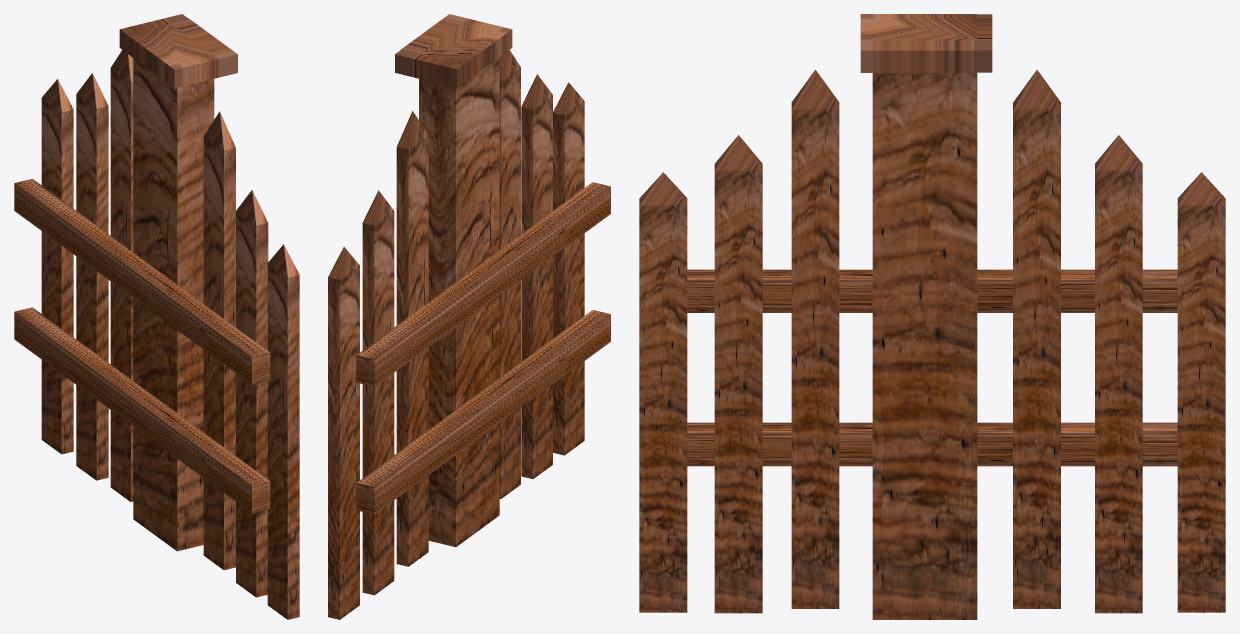
The model's file is blocco_staccionata.fbx.
3 renders of one model, left to right at view 1: azimuth 30°, elevation 25°; view 2: azimuth 150°, elevation 25°; view 3: azimuth 270°, elevation 25°, orthographic. The views are drawn at different scales.
Visible parts, largest first — view 1: Cubo, Cubo.005, Cubo.002, Cubo.003, Cubo.004, Cubo.006, Cubo.001; view 2: Cubo, Cubo.001, Cubo.006, Cubo.004, Cubo.003, Cubo.005, Cubo.002; view 3: Cubo, Cubo.002, Cubo.001, Cubo.003, Cubo.004, Cubo.005, Cubo.006.
Boxes of the visible parts, <box> form: Cubo: <box>14,14,270,551</box>; Cubo.005: <box>267,244,299,619</box>; Cubo.002: <box>203,111,235,570</box>; Cubo.003: <box>236,190,268,597</box>; Cubo.004: <box>76,73,108,480</box>; Cubo.006: <box>41,79,73,454</box>; Cubo.001: <box>110,50,133,501</box>; Cubo: <box>356,14,610,547</box>; Cubo.001: <box>396,111,428,566</box>; Cubo.006: <box>328,247,359,619</box>; Cubo.004: <box>362,190,394,595</box>; Cubo.003: <box>521,74,552,478</box>; Cubo.005: <box>553,82,584,455</box>; Cubo.002: <box>499,50,520,498</box>; Cubo: <box>687,14,1177,619</box>; Cubo.002: <box>791,70,839,608</box>; Cubo.001: <box>1013,70,1060,608</box>; Cubo.003: <box>714,135,762,613</box>; Cubo.004: <box>1095,135,1142,613</box>; Cubo.005: <box>639,172,687,612</box>; Cubo.006: <box>1177,172,1225,612</box>.
Bounding box in the file's own units: 813 × 5104 × 4668.
